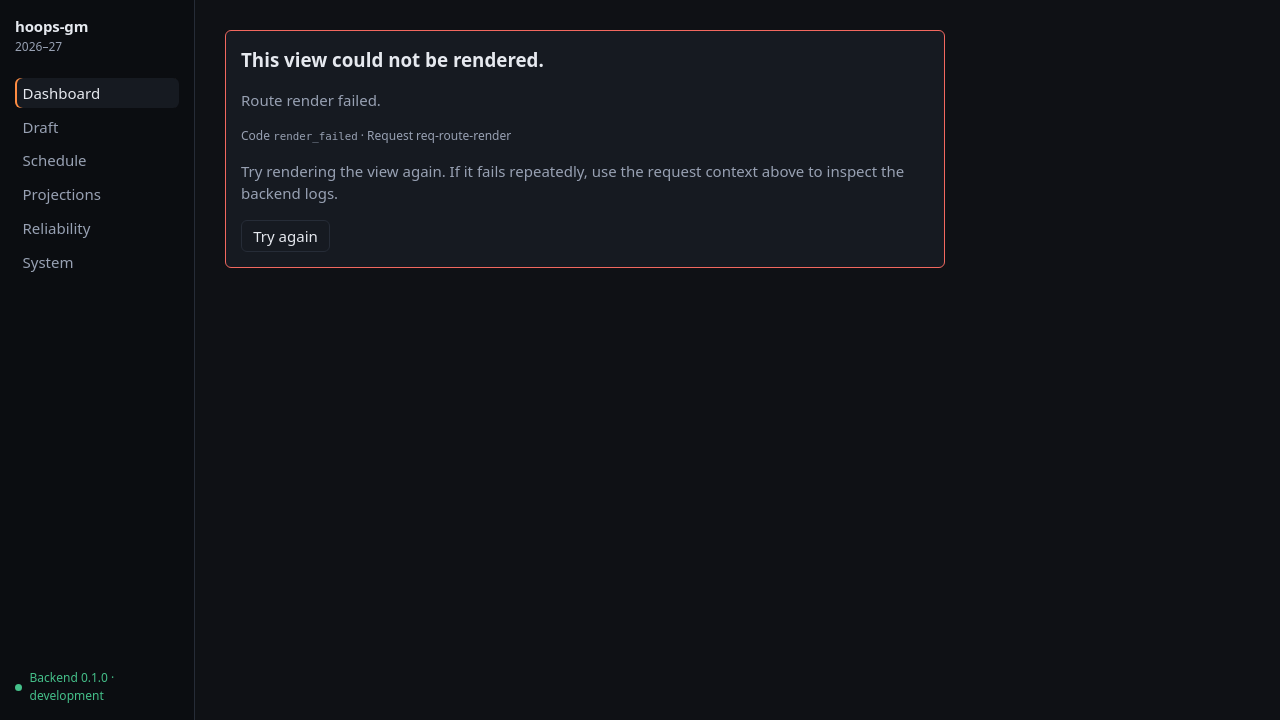
Test: the dashboard shell › keeps shell navigation available and resets the boundary on route change
Check: the message that starts with "This view could not be rendered." shows "Route render failed.", box [241,90,381,110]
Click the link "System" at (48, 262), box [22,252,74,272]
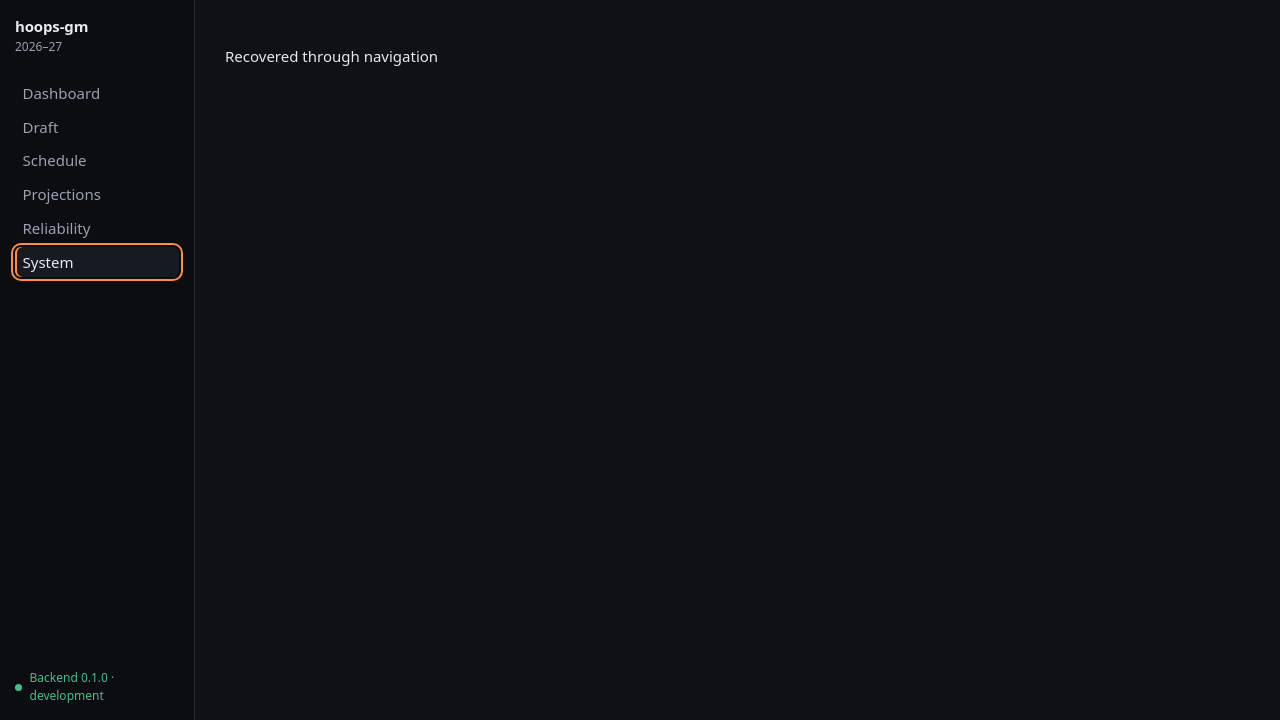
Check: the text "Recovered through navigation" is shown, box [225,46,438,66]
Check: the text "Route render failed." is gone
